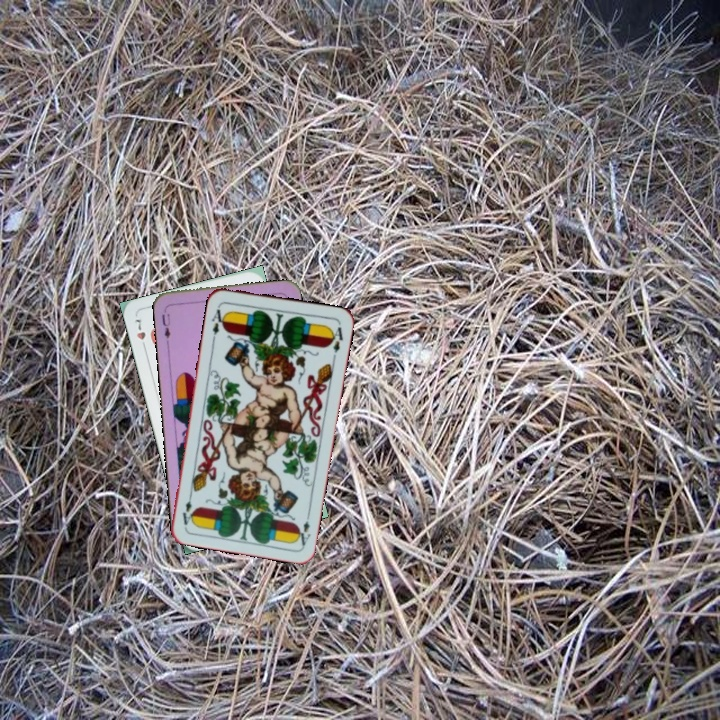EA: (208, 302, 228, 342), (292, 517, 313, 548)
EU: (158, 304, 173, 345)
H7: (131, 315, 149, 353)
